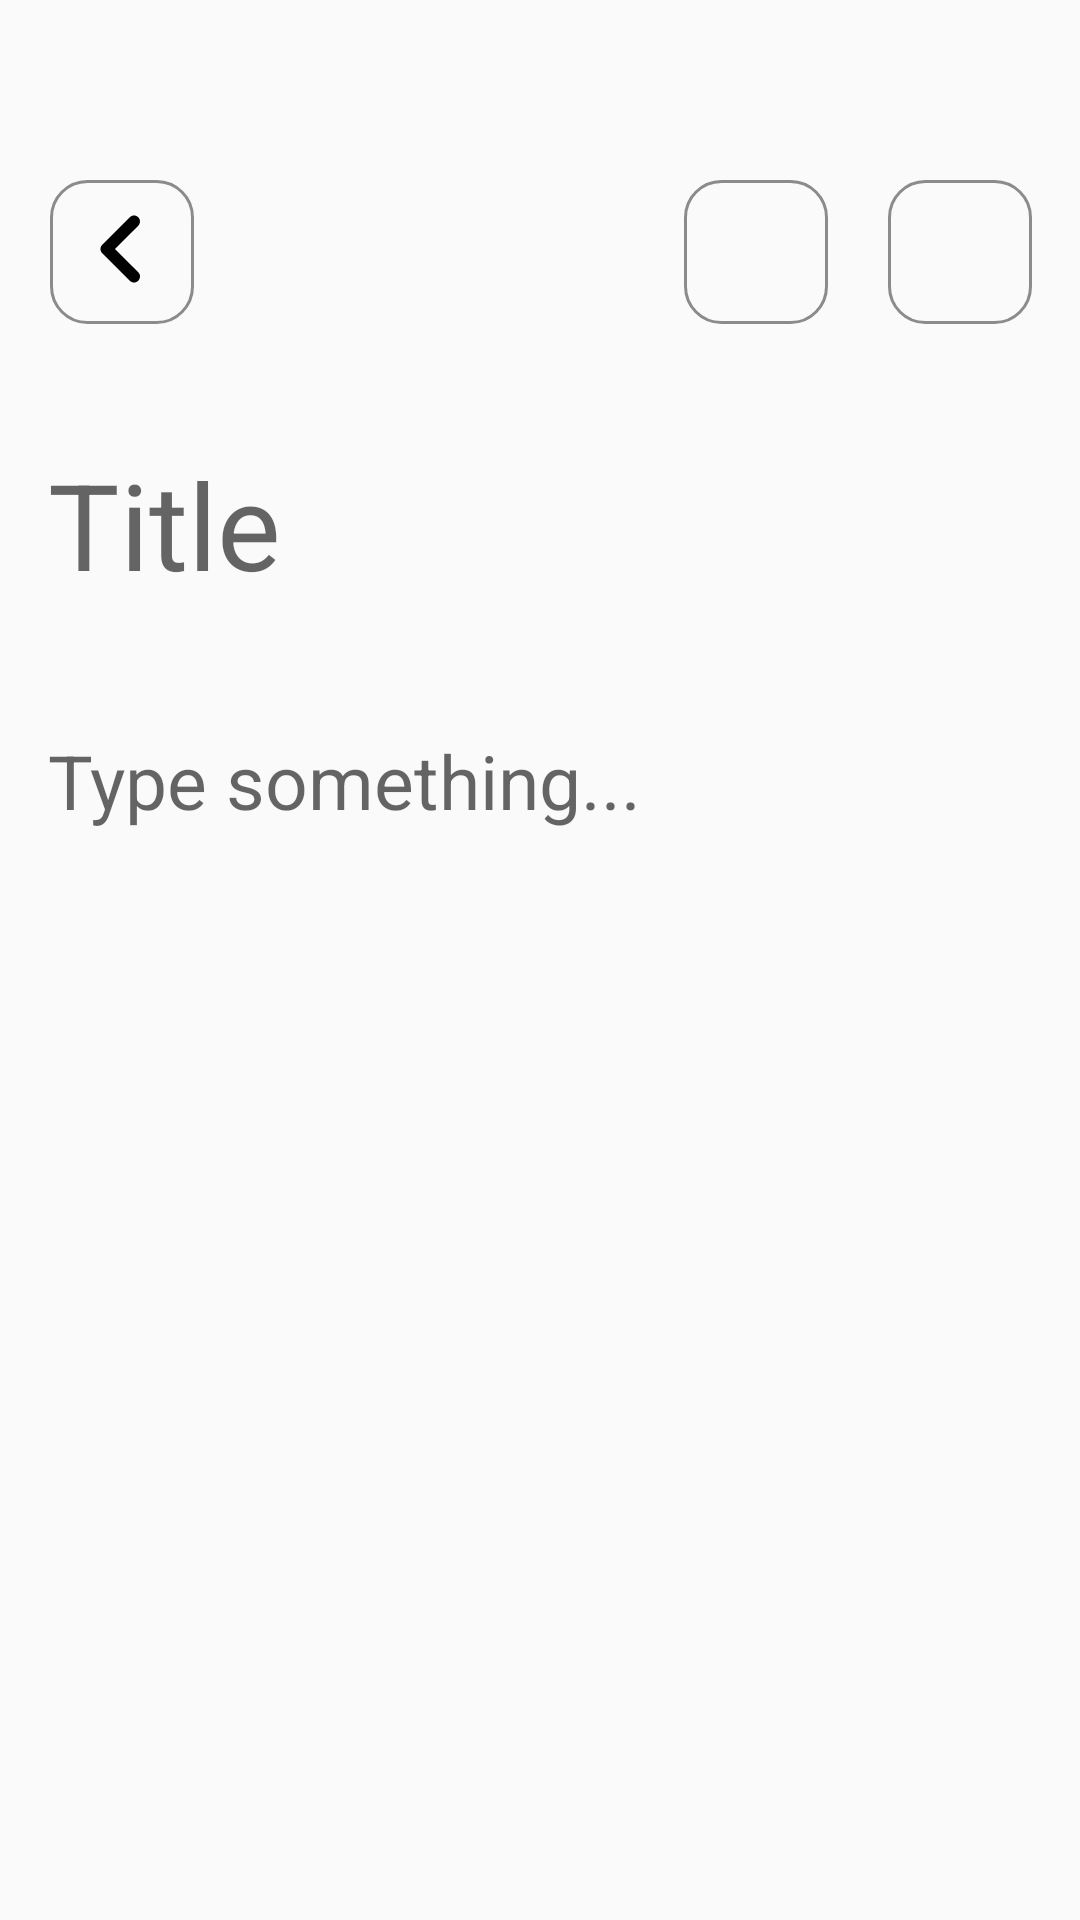

Locate icon controls on the screen. Image size 1080 × 1920, boxes as BBox(x1, y1, x2, y2).
chevron left: BBox(50, 180, 194, 324)
